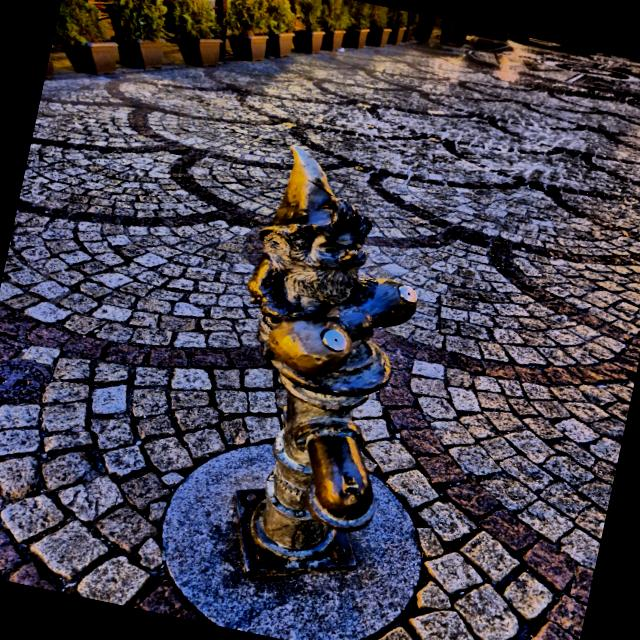Orzezwiacz: (248, 147, 416, 570)
